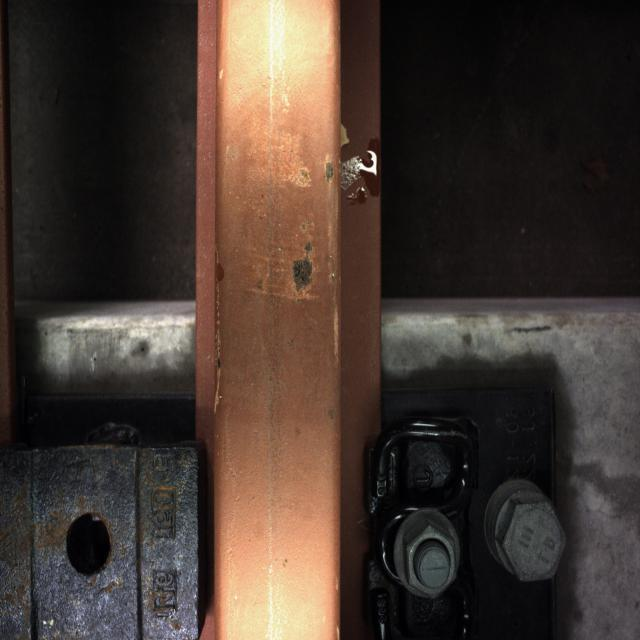scar: (255, 102, 337, 338)
